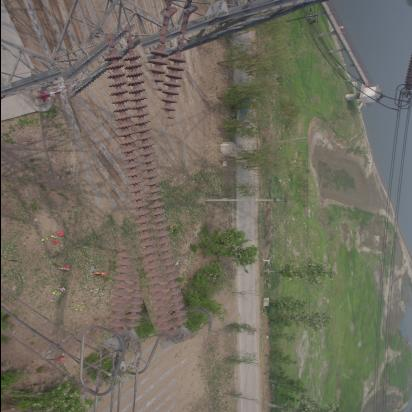insulator: (79, 28, 216, 348)
